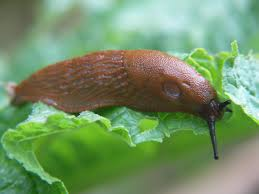slug: (1, 47, 232, 135)
